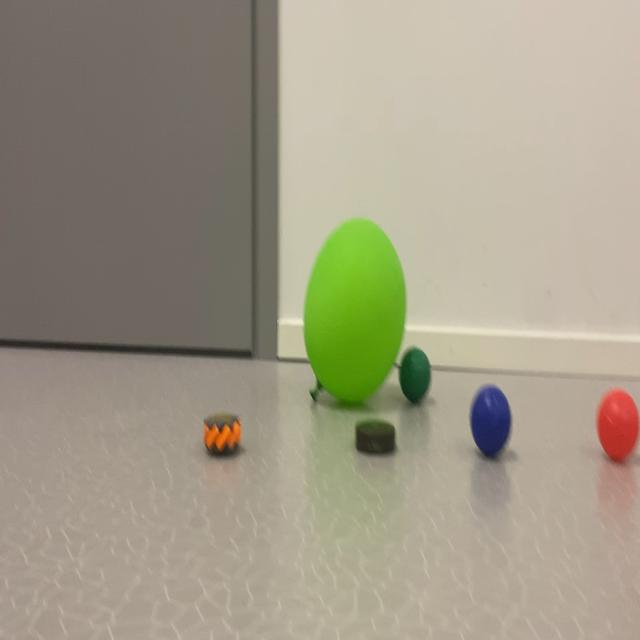5: (387, 311, 434, 417)
7: (578, 370, 638, 486)
blue ball: (403, 308, 640, 549)
green ball: (450, 364, 523, 506)
